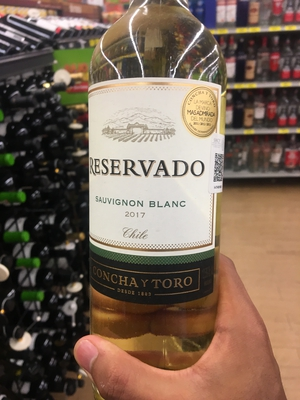reservado sauvignon blanc: (78, 20, 239, 381)
